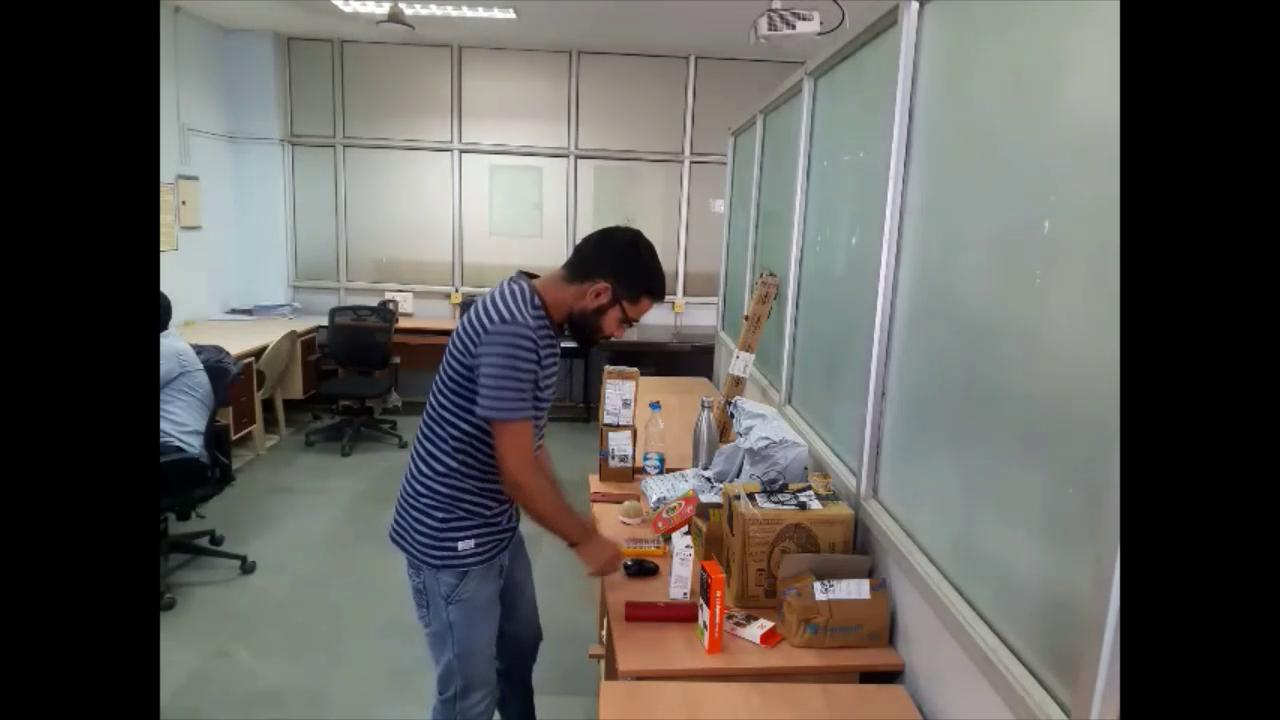Normal: (387, 202, 672, 720)
